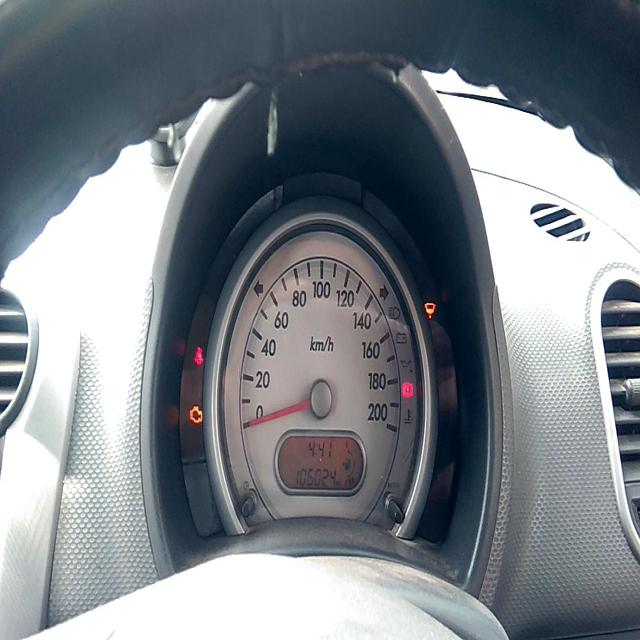odometer: (295, 466, 337, 488)
